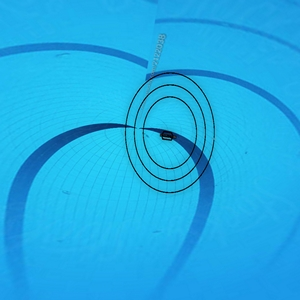circle: (126, 69, 215, 196)
submarine: (159, 130, 176, 142)
